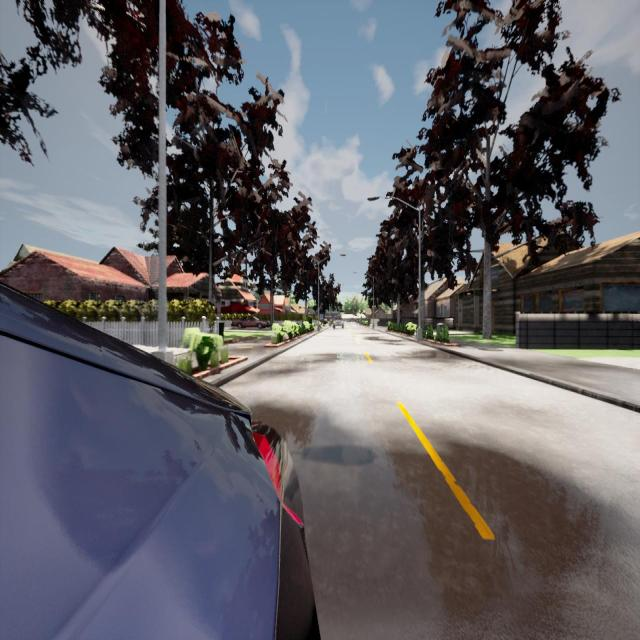Vehicle: (0, 283, 318, 638), (332, 316, 344, 330)
